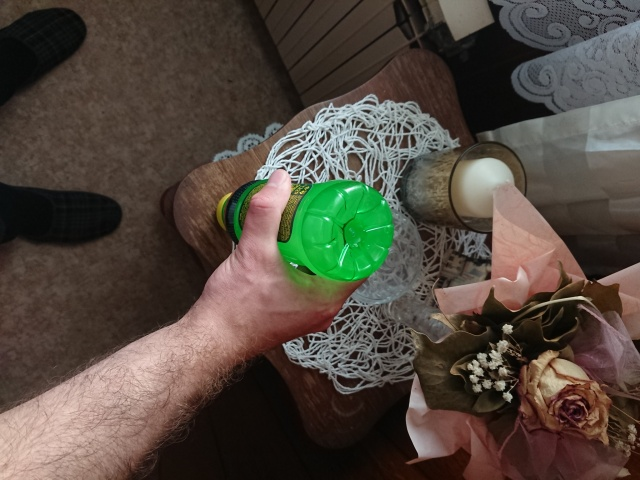Vindi Iso Sport Lemon-Grapefruit 500mL: (213, 177, 397, 286)
